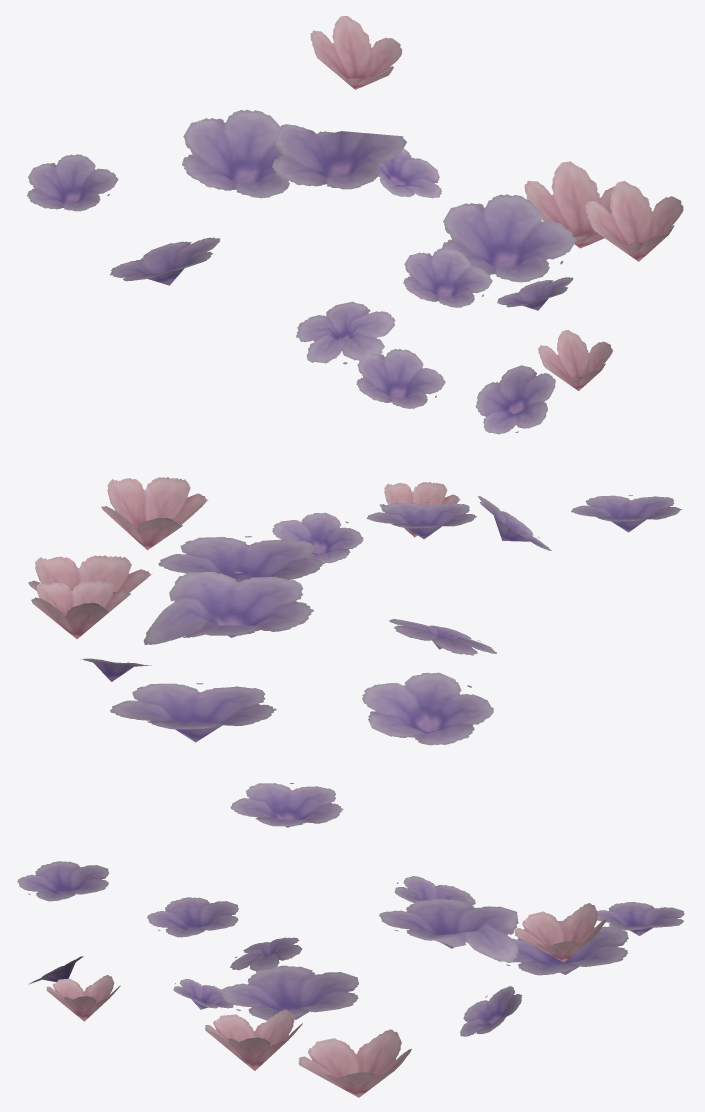
File: Map_04_grass19.FBX
3 renders of one model, top to bottom at view 1: azimuth 30°, elevation 25°; view 2: azimuth 150°, elevation 25°; view 3: azimuth 270°, elevation 25°, orthographic. The views are drawn at different scales.
Visible parts, largest first — view 1: Map_04_grass19; view 2: Map_04_grass19; view 3: Map_04_grass19.
Part boxes in pixels (<box>): Map_04_grass19: <box>27,15,683,434</box>; Map_04_grass19: <box>28,477,681,827</box>; Map_04_grass19: <box>17,861,684,1097</box>.
Size of the model in its own units: 20.03 by 6.13 by 27.4.
Materials: 1 (1 with a texture image).
